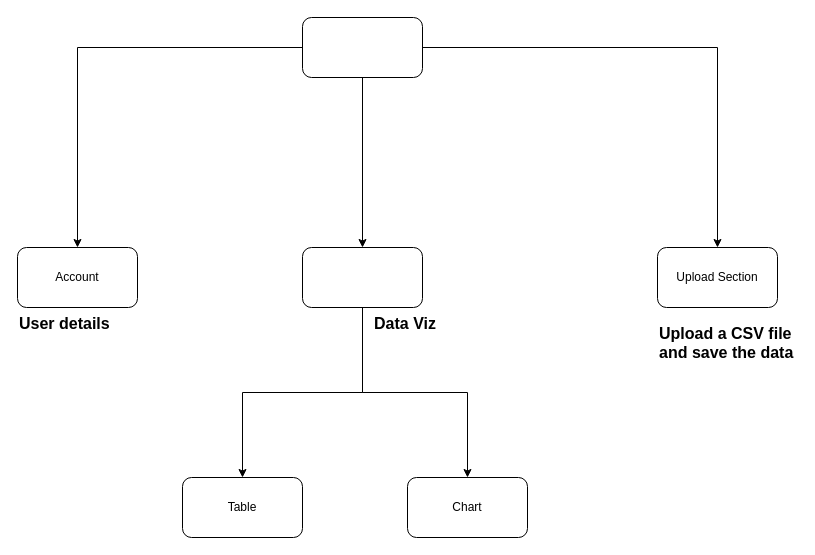
The diagram is 815 pixels wide and 555 high, and some of its shapes have lost their labels. Each missing label, with the centre of its shape:
Dashboard: the point at 362,277
Login page: the point at 362,47
